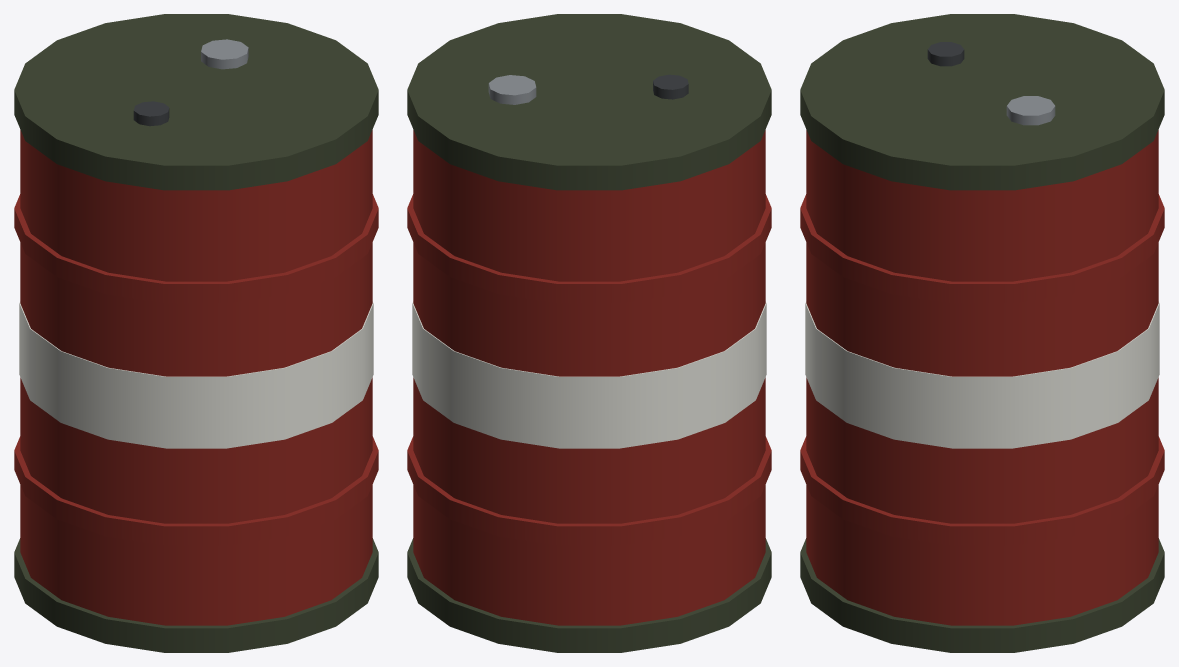
File: SM_Barril_Combustible.fbx
The picture shows the model from 3 angles, left to right: view 1: azimuth 30°, elevation 25°; view 2: azimuth 150°, elevation 25°; view 3: azimuth 270°, elevation 25°; orthographic projection.
Parts seen in each view (by area): view 1: SM_Barril_Combustible; view 2: SM_Barril_Combustible; view 3: SM_Barril_Combustible.
Boxes of the visible parts, x1,y1,x2,y2 form: SM_Barril_Combustible: (14,14,378,652); SM_Barril_Combustible: (407,14,771,652); SM_Barril_Combustible: (800,14,1164,652).
Size of what is drawn, in the model's own units: 0.5909 by 0.6 by 0.9025.
